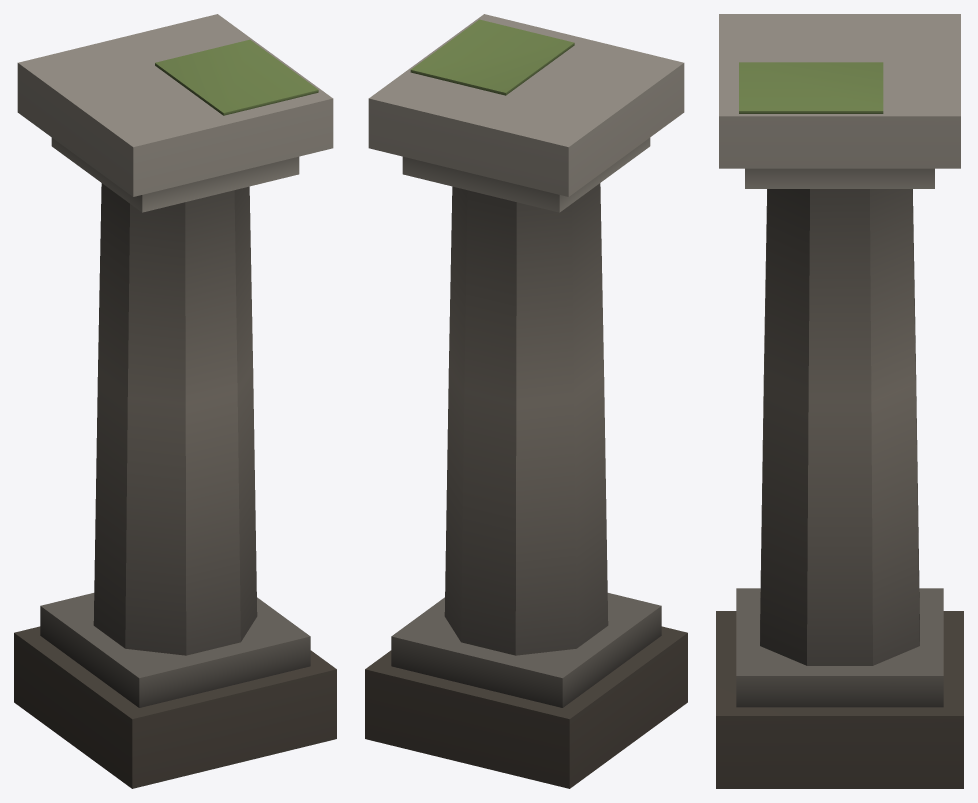
File: ruins-column-low.glb
The picture shows the model from 3 angles, left to right: view 1: azimuth 30°, elevation 25°; view 2: azimuth 150°, elevation 25°; view 3: azimuth 270°, elevation 25°; orthographic projection. The views are drawn at different scales.
Visible parts, largest first — view 1: 0_ruins_column; view 2: 0_ruins_column; view 3: 0_ruins_column.
Boxes of the visible parts, x1,y1,x2,y2 form: 0_ruins_column: (14,14,336,788); 0_ruins_column: (365,14,687,788); 0_ruins_column: (716,14,963,788).
Bounding box in the file's own units: 0.86 × 2.58 × 0.86.
